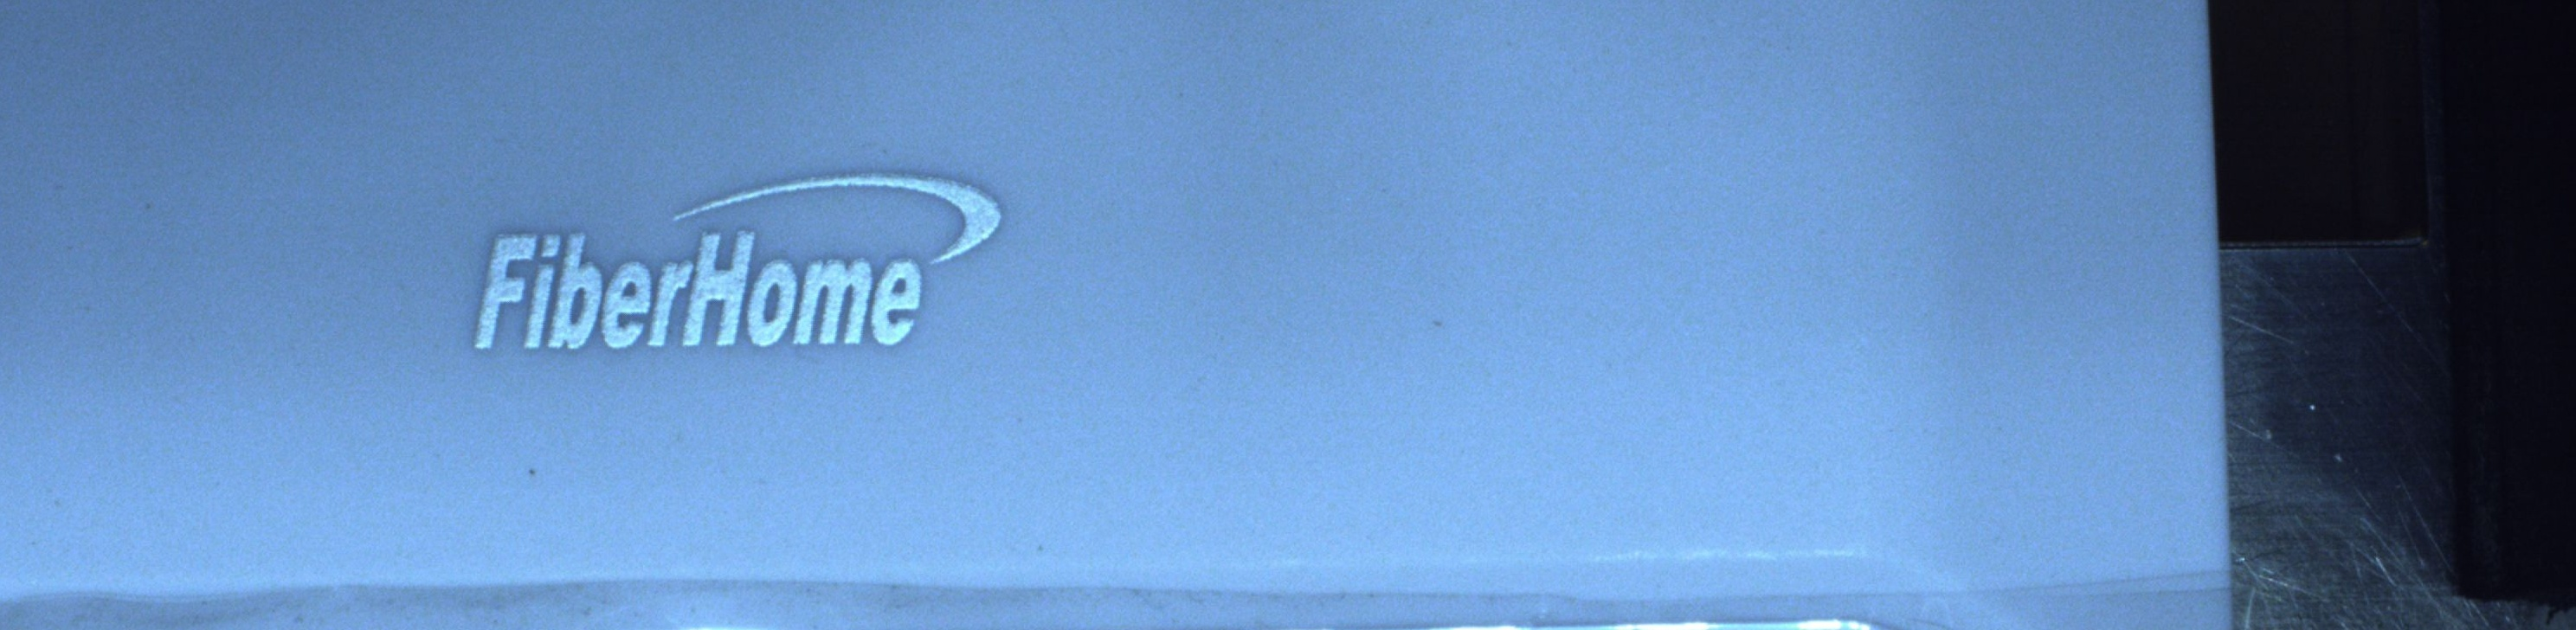AI_FiberHome: (417, 138, 1025, 369)
